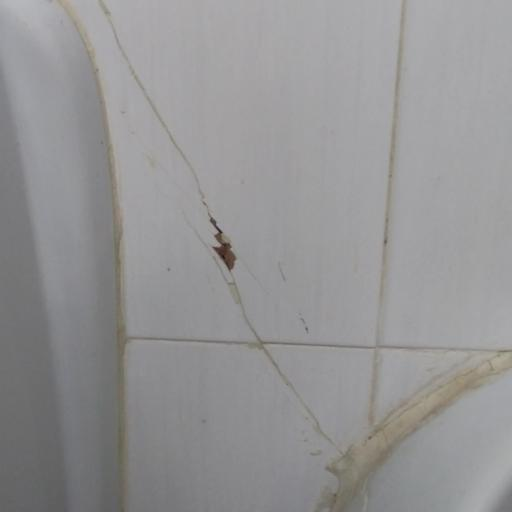minor_crack: (94, 2, 361, 468)
